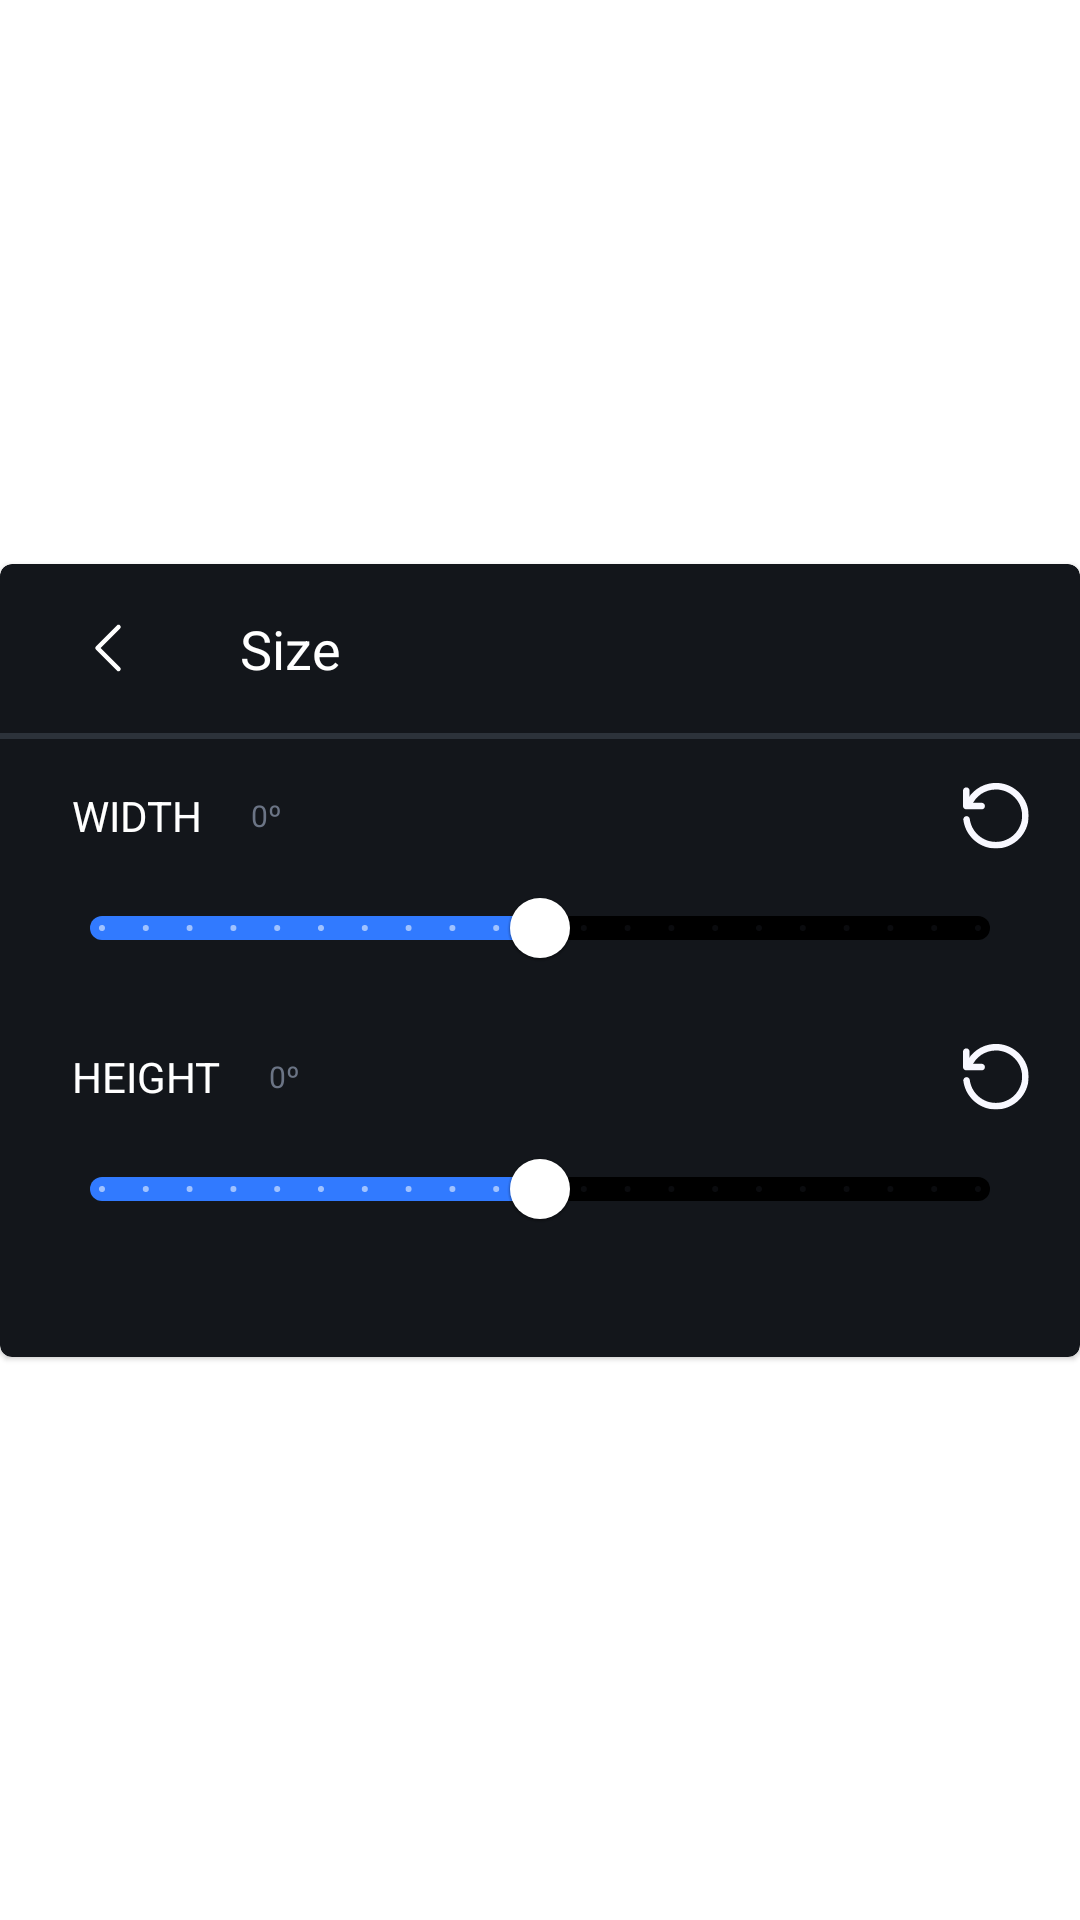

Icons on this 1080 × 1920 Android screen, each with its box as (x1=x1, y1=y1, x2=x2, y2=y2):
arrow left: (x1=95, y1=624, x2=121, y2=672)
reset: (x1=963, y1=783, x2=1029, y2=849), (x1=963, y1=1044, x2=1029, y2=1110)
